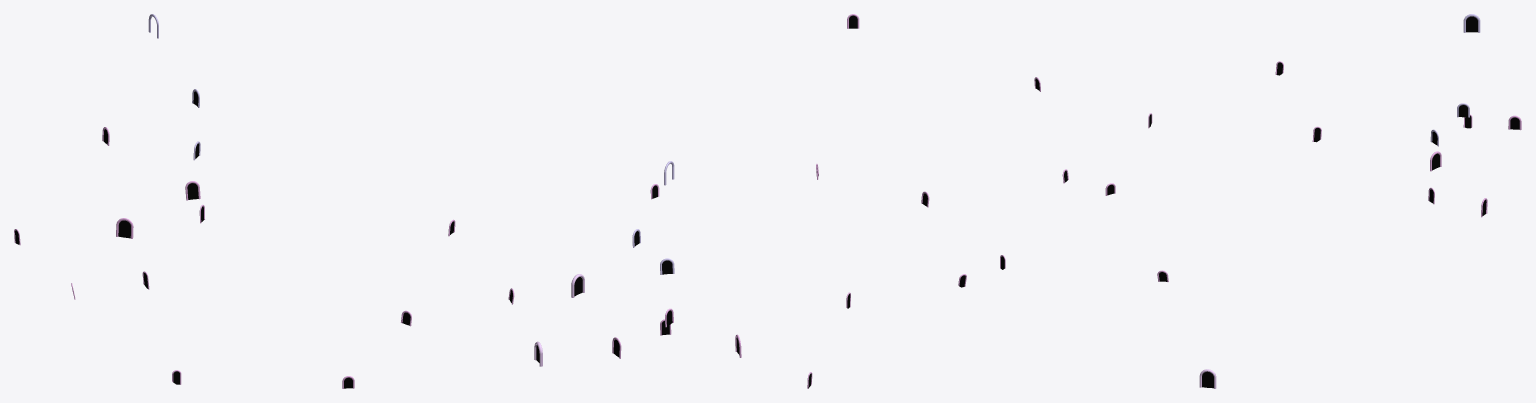
Rendered from Portale.fbx.
3 renders of one model, left to right at view 1: azimuth 30°, elevation 25°; view 2: azimuth 150°, elevation 25°; view 3: azimuth 270°, elevation 25°, orthographic. The views are drawn at different scales.
Size of the model in its own units: 293 by 194 by 319.
